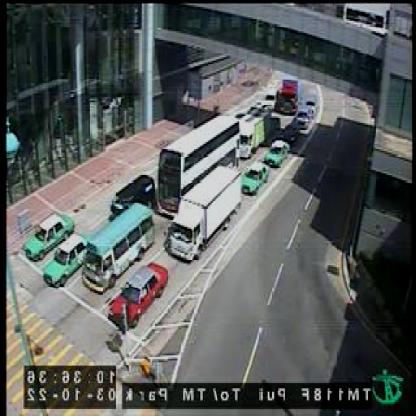Bus: (158, 116, 240, 213)
Car: (109, 254, 169, 327), (23, 208, 73, 260), (46, 234, 90, 289), (112, 170, 154, 222), (242, 160, 269, 190), (266, 138, 288, 164), (296, 107, 311, 130), (283, 125, 299, 142)
Minibus: (83, 201, 155, 290)
Truck: (169, 166, 241, 258), (240, 111, 270, 156), (277, 74, 300, 111)
